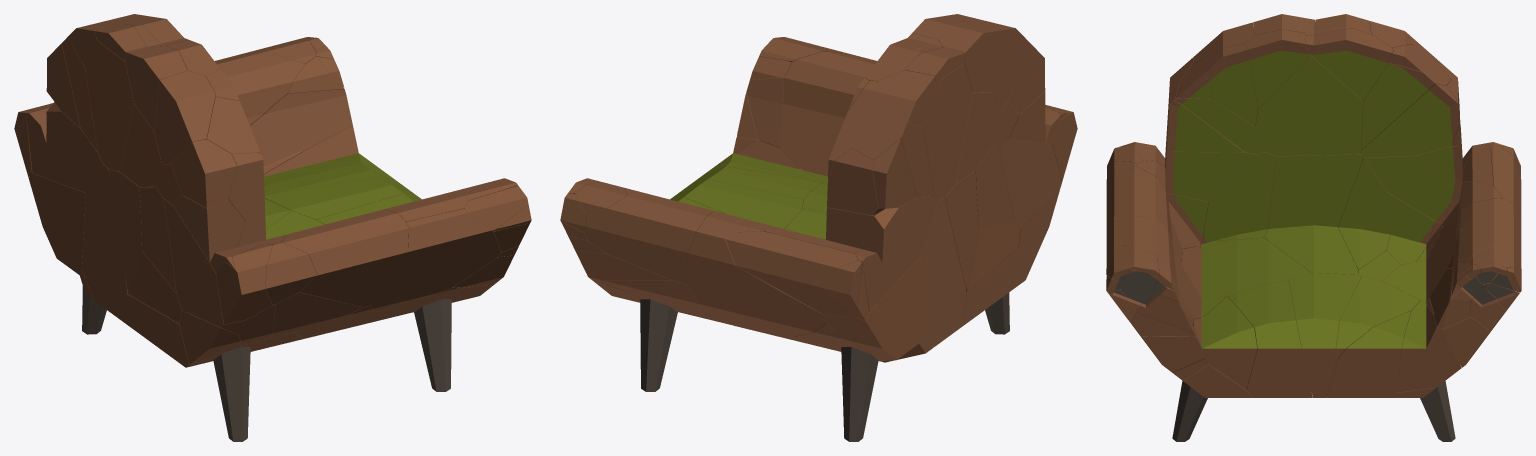
Rendered from armchair-pieces.fbx.
3 views of the same model, side by side, from view 1: azimuth 30°, elevation 25°; view 2: azimuth 150°, elevation 25°; view 3: azimuth 270°, elevation 25° (orthographic). The views are drawn at different scales.
Visible parts, largest first — view 1: armchair_cell.085, armchair_cell.097, armchair_cell.046, armchair_cell.028, armchair_cell.013, armchair_cell.008, armchair_cell.058, armchair_cell.063, armchair_cell.048, armchair_cell.001, armchair_cell.029, armchair_cell.067 (+39 smaller); view 2: armchair_cell.037, armchair_cell.064, armchair_cell.048, armchair_cell.017, armchair_cell.013, armchair_cell.001, armchair_cell.007, armchair_cell.028, armchair_cell.008, armchair_cell.063, armchair_cell.029, armchair_cell.030 (+36 smaller); view 3: armchair_cell.030, armchair_cell.039, armchair_cell.077, armchair_cell.029, armchair_cell.057, armchair_cell.023, armchair_cell.025, armchair_cell.084, armchair_cell.011, armchair_cell.007, armchair_cell.035, armchair_cell.028 (+47 smaller).
Part boxes in pixels (x1=…): armchair_cell.085: x1=281, y1=209, x2=408, y2=307; armchair_cell.097: x1=371, y1=208, x2=501, y2=311; armchair_cell.046: x1=250, y1=89, x2=352, y2=166; armchair_cell.028: x1=82, y1=163, x2=128, y2=319; armchair_cell.013: x1=26, y1=102, x2=102, y2=192; armchair_cell.008: x1=85, y1=39, x2=134, y2=171; armchair_cell.058: x1=154, y1=70, x2=215, y2=164; armchair_cell.063: x1=163, y1=198, x2=245, y2=334; armchair_cell.048: x1=214, y1=48, x2=305, y2=125; armchair_cell.001: x1=28, y1=173, x2=85, y2=274; armchair_cell.029: x1=264, y1=177, x2=421, y2=219; armchair_cell.067: x1=216, y1=244, x2=273, y2=324; armchair_cell.037: x1=686, y1=211, x2=826, y2=336; armchair_cell.064: x1=780, y1=51, x2=876, y2=182; armchair_cell.048: x1=584, y1=188, x2=712, y2=284; armchair_cell.017: x1=725, y1=231, x2=858, y2=317; armchair_cell.013: x1=854, y1=196, x2=938, y2=311; armchair_cell.001: x1=824, y1=255, x2=922, y2=360; armchair_cell.007: x1=841, y1=81, x2=934, y2=197; armchair_cell.028: x1=917, y1=196, x2=966, y2=346; armchair_cell.008: x1=923, y1=63, x2=972, y2=199; armchair_cell.063: x1=994, y1=139, x2=1061, y2=229; armchair_cell.029: x1=670, y1=179, x2=803, y2=228; armchair_cell.030: x1=785, y1=170, x2=978, y2=291; armchair_cell.030: x1=1263, y1=154, x2=1363, y2=274; armchair_cell.039: x1=1255, y1=55, x2=1362, y2=156; armchair_cell.077: x1=1227, y1=280, x2=1312, y2=397; armchair_cell.029: x1=1289, y1=273, x2=1361, y2=397; armchair_cell.057: x1=1181, y1=237, x2=1311, y2=298; armchair_cell.023: x1=1364, y1=155, x2=1501, y2=227; armchair_cell.025: x1=1327, y1=311, x2=1411, y2=397; armchair_cell.084: x1=1202, y1=152, x2=1275, y2=241; armchair_cell.011: x1=1360, y1=83, x2=1458, y2=157; armchair_cell.007: x1=1360, y1=44, x2=1450, y2=152; armchair_cell.035: x1=1305, y1=29, x2=1393, y2=100; armchair_cell.028: x1=1338, y1=157, x2=1390, y2=269.
Size of the model in its own units: 3.55 by 4.01 by 4.76.
